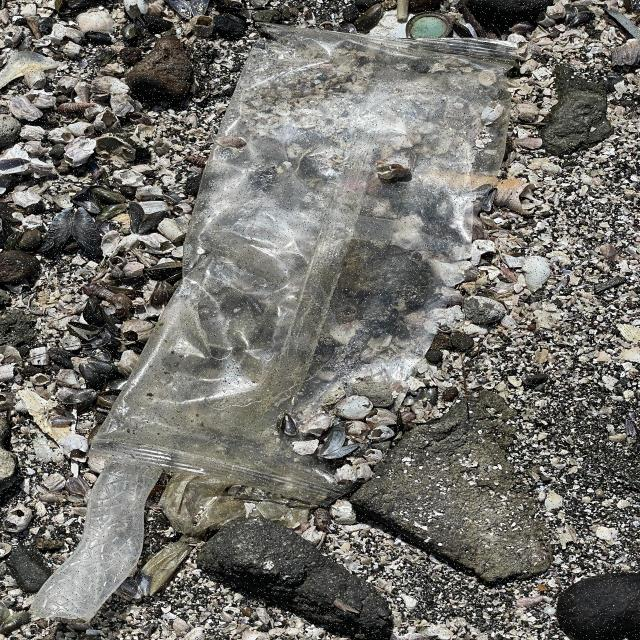plastic_waste: (82, 20, 526, 510)
